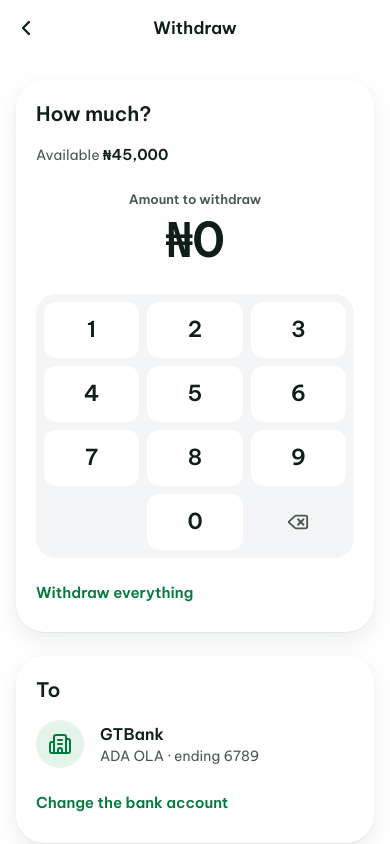
Test: taking money out, for real › fills in the whole balance when asked
What coordinates should you click on to do the following:
click the button "Withdraw everything"
I would click on:
 (115, 593)
Its box is [36, 574, 193, 612].
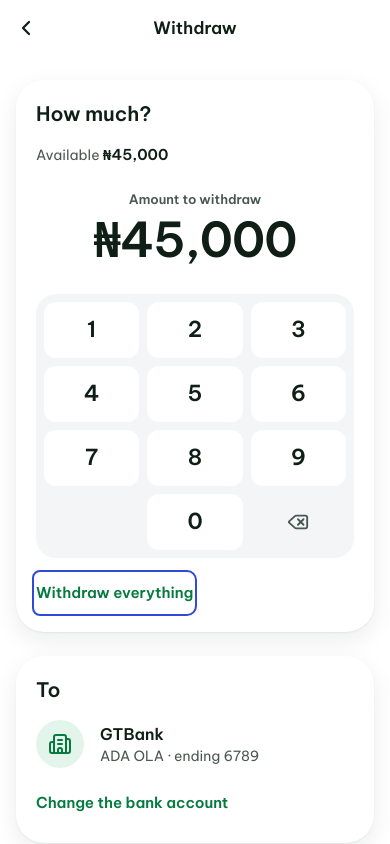
expect the text "₦45,000" below "Amount to withdraw" is shown: met, box [94, 208, 296, 270]
